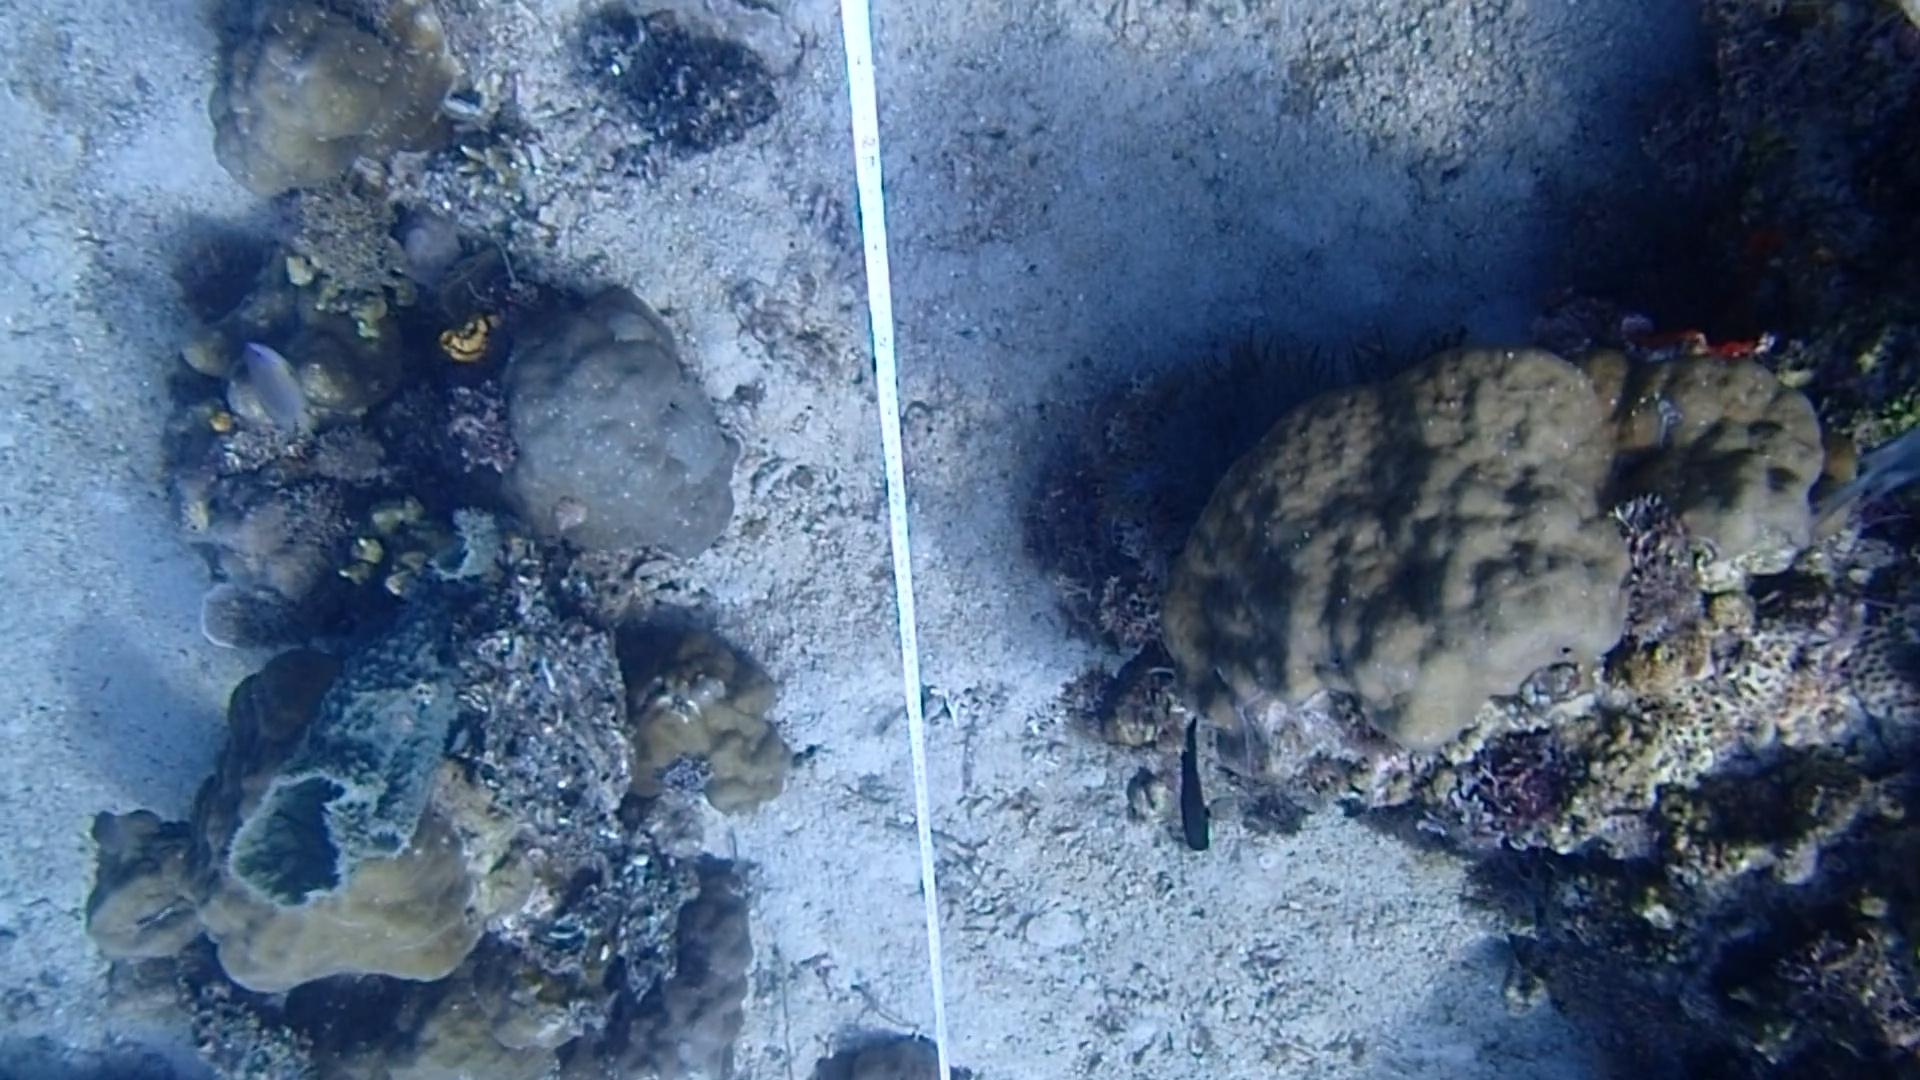Blue Nose Fish: (239, 335, 324, 451)
Dark Fish: (1159, 716, 1233, 869)
